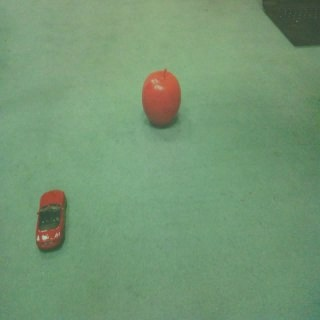apple: (136, 67, 190, 133)
car: (30, 188, 72, 257)
